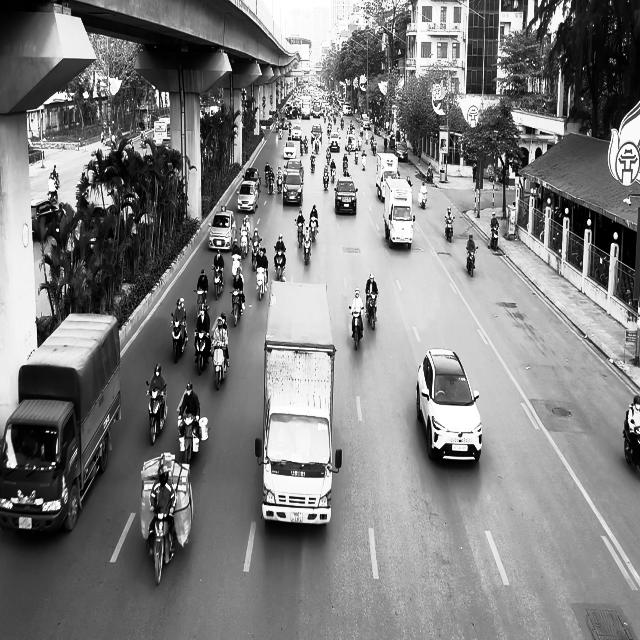car: (416, 348, 483, 463), (208, 208, 237, 251), (335, 178, 358, 215), (238, 180, 260, 212), (283, 172, 303, 206), (283, 140, 297, 159), (396, 142, 408, 161)
motorbike: (177, 410, 209, 463), (146, 380, 168, 445), (623, 408, 640, 472), (211, 340, 229, 390), (171, 318, 188, 363), (194, 329, 210, 375), (349, 306, 365, 350), (231, 288, 245, 326), (366, 291, 378, 330), (256, 266, 268, 301), (212, 265, 224, 300), (466, 246, 479, 277), (274, 248, 286, 281), (251, 238, 263, 270), (295, 218, 305, 248), (488, 225, 499, 251), (240, 229, 250, 257), (303, 235, 312, 264), (446, 217, 454, 242), (310, 218, 318, 241), (419, 189, 427, 209), (323, 168, 330, 190), (310, 154, 316, 173), (362, 151, 366, 171)
truck: (0, 311, 122, 535), (255, 279, 342, 526)
